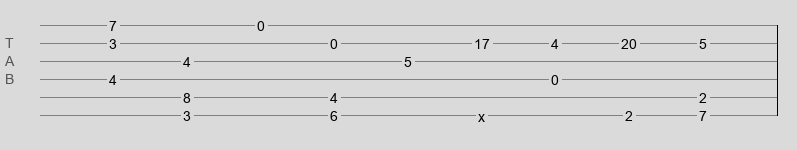0: (257, 18, 265, 28), (330, 36, 338, 46), (551, 72, 559, 82)
17: (474, 36, 490, 46)
2: (625, 108, 633, 118), (699, 90, 707, 100)
20: (621, 36, 637, 46)
3: (109, 36, 117, 46), (183, 108, 191, 118)
4: (109, 72, 117, 82), (183, 54, 191, 64), (330, 90, 338, 100), (551, 36, 559, 46)
5: (404, 54, 412, 64), (699, 36, 707, 46)
6: (330, 108, 338, 118)
7: (109, 18, 117, 28), (699, 108, 707, 118)
8: (183, 90, 191, 100)
x: (478, 109, 485, 117)
